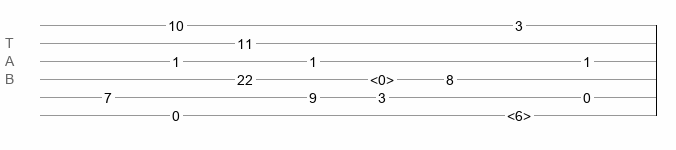0: (172, 108, 180, 118), (583, 90, 591, 100)
1: (172, 54, 180, 64), (309, 54, 317, 64), (583, 54, 591, 64)
10: (168, 18, 184, 28)
11: (237, 36, 253, 46)
22: (237, 72, 253, 82)
3: (378, 90, 386, 100), (515, 18, 523, 28)
7: (104, 90, 112, 100)
8: (446, 72, 454, 82)
9: (309, 90, 317, 100)
harmonic: (370, 72, 394, 82), (507, 108, 531, 118)
